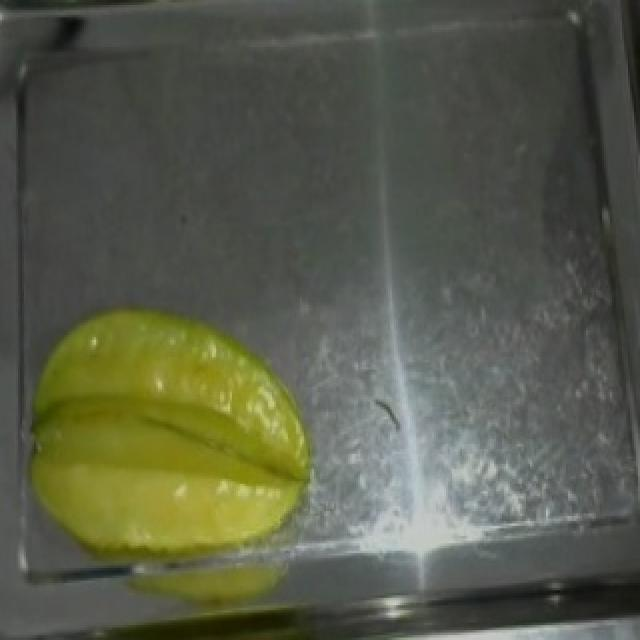fruit: (8, 295, 336, 598)
